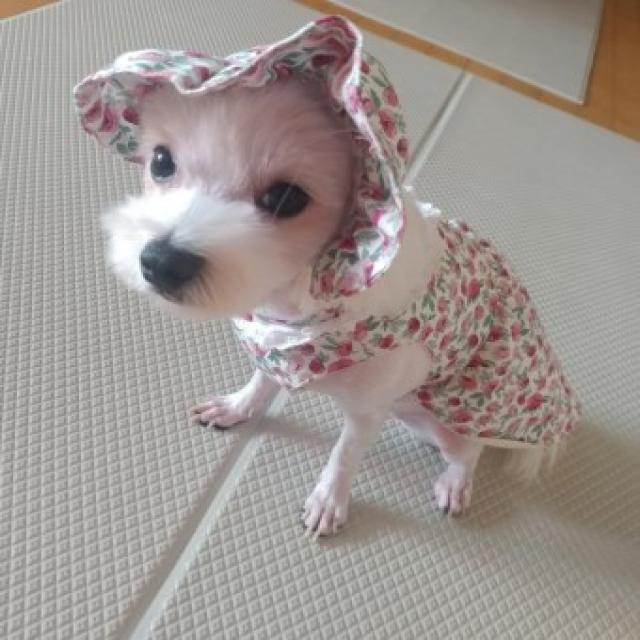cloth: (234, 206, 578, 444)
